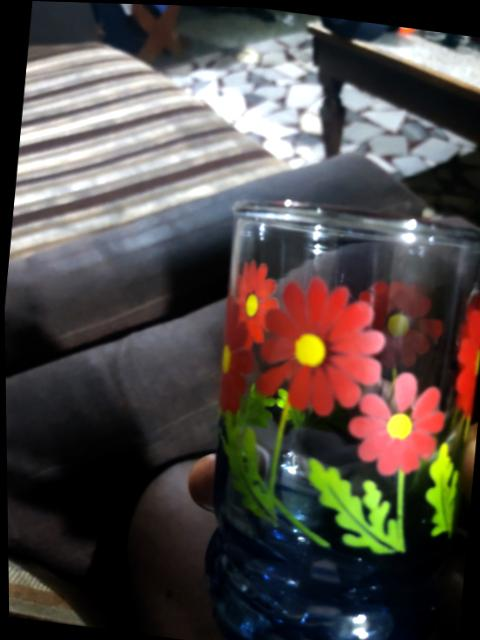Cup: (206, 202, 479, 639)
